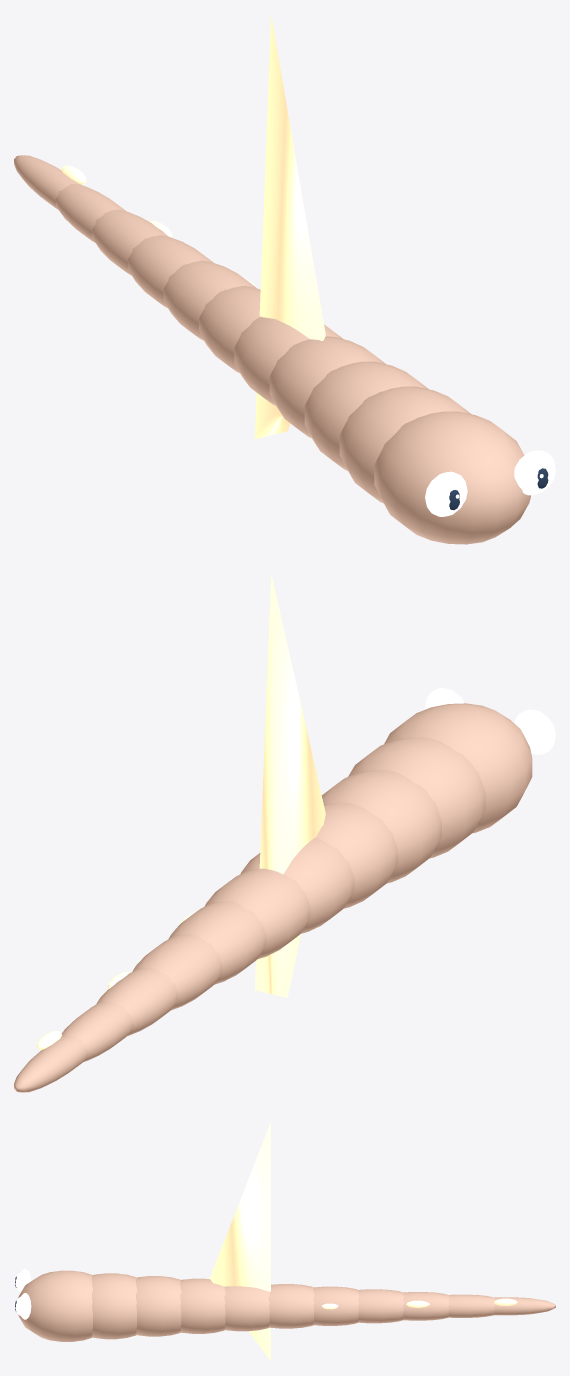
File: ashen-coil.glb
The picture shows the model from 3 angles, top to bottom: view 1: azimuth 30°, elevation 25°; view 2: azimuth 150°, elevation 25°; view 3: azimuth 270°, elevation 25°; orthographic projection. The views are drawn at different scales.
Parts seen in each view (by area): view 1: eel-segment-00, dorsal-fin-blade, eel-segment-01, eel-segment-02, eel-segment-03, eel-segment-04, eel-segment-06, eel-segment-05, eel-segment-07, eel-segment-08, eel-segment-09, eel-segment-10 (+3 smaller); view 2: dorsal-fin-blade, eel-segment-00, eel-segment-01, eel-segment-02, eel-segment-03, eel-segment-05, eel-segment-06, eel-segment-04, eel-segment-07, eel-segment-08, eel-segment-09, eel-segment-10 (+1 smaller); view 3: dorsal-fin-blade, eel-segment-00, eel-segment-01, eel-segment-02, eel-segment-03, eel-segment-04, eel-segment-05, eel-segment-06, eel-segment-07, eel-segment-08, eel-segment-09, eel-segment-10.
Part boxes in pixels (bbox=[...]): eel-segment-00: bbox=[374, 411, 530, 544]; dorsal-fin-blade: bbox=[255, 16, 325, 439]; eel-segment-01: bbox=[339, 386, 471, 503]; eel-segment-02: bbox=[304, 361, 428, 470]; eel-segment-03: bbox=[269, 336, 385, 438]; eel-segment-04: bbox=[234, 317, 342, 405]; eel-segment-06: bbox=[163, 260, 256, 340]; eel-segment-05: bbox=[199, 286, 260, 373]; eel-segment-07: bbox=[128, 235, 212, 307]; eel-segment-08: bbox=[92, 209, 168, 275]; eel-segment-09: bbox=[56, 184, 126, 242]; eel-segment-10: bbox=[14, 155, 82, 209]; dorsal-fin-blade: bbox=[255, 574, 325, 997]; eel-segment-00: bbox=[384, 703, 532, 833]; eel-segment-01: bbox=[348, 737, 485, 858]; eel-segment-02: bbox=[321, 770, 441, 883]; eel-segment-03: bbox=[316, 802, 397, 908]; eel-segment-05: bbox=[204, 868, 310, 959]; eel-segment-06: bbox=[168, 901, 266, 984]; eel-segment-04: bbox=[240, 837, 354, 933]; eel-segment-07: bbox=[132, 934, 222, 1010]; eel-segment-08: bbox=[96, 967, 177, 1035]; eel-segment-09: bbox=[61, 1001, 133, 1061]; eel-segment-10: bbox=[14, 1035, 88, 1092]; dorsal-fin-blade: bbox=[210, 1122, 270, 1360]; eel-segment-00: bbox=[18, 1270, 92, 1341]; eel-segment-01: bbox=[92, 1273, 137, 1339]; eel-segment-02: bbox=[136, 1276, 181, 1336]; eel-segment-03: bbox=[180, 1278, 225, 1333]; eel-segment-04: bbox=[224, 1286, 269, 1331]; eel-segment-05: bbox=[268, 1284, 314, 1328]; eel-segment-06: bbox=[313, 1286, 359, 1325]; eel-segment-07: bbox=[358, 1289, 403, 1323]; eel-segment-08: bbox=[403, 1292, 449, 1320]; eel-segment-09: bbox=[448, 1294, 495, 1317]; eel-segment-10: bbox=[494, 1297, 555, 1315].
Size of the model in its own units: 0.824 by 2.55 by 5.31.
